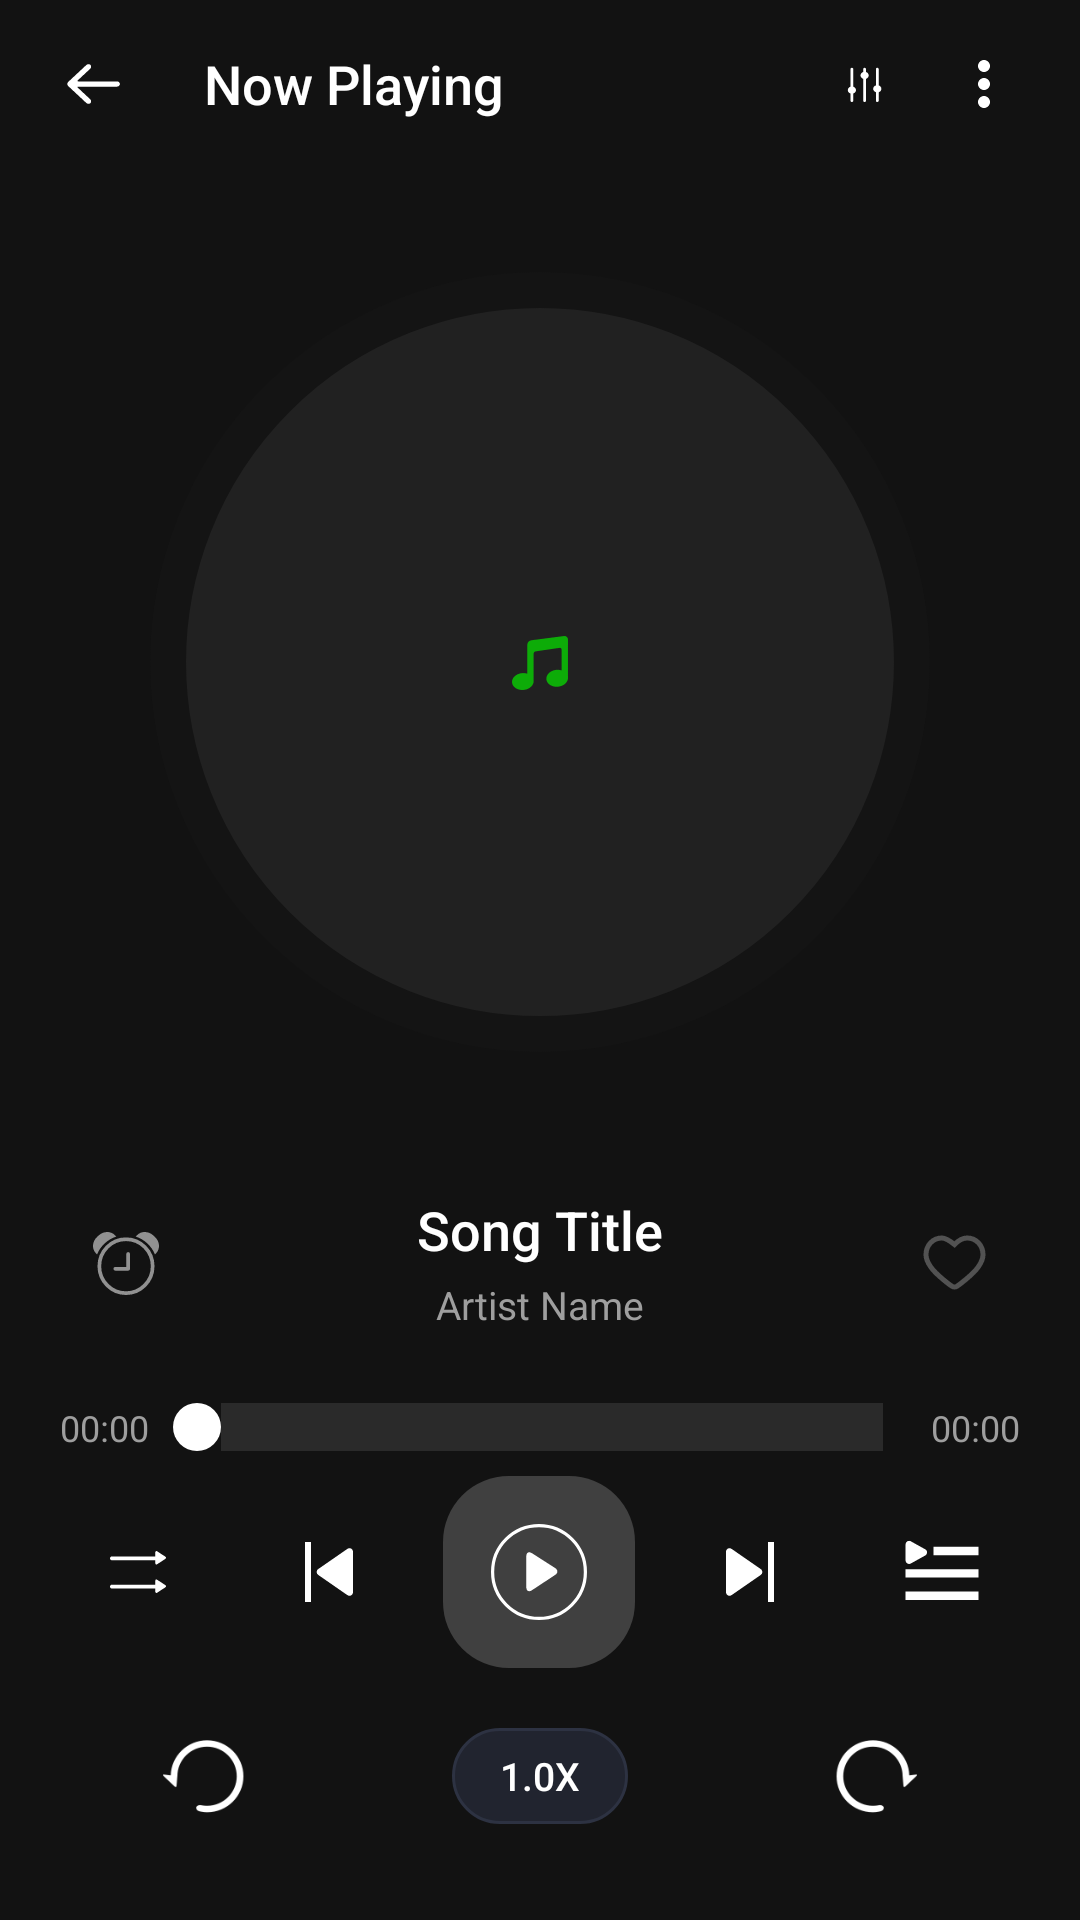

Icon click points for this 1080 x 1920 phone screenshot, format (x,y):
back: (93,84)
equalizer: (864,84)
fast backward: (203,1776)
fast forward: (876,1776)
favorite: (954,1262)
more: (984,84)
play: (539,1572)
play next: (750,1572)
play playlist: (942,1570)
play previous: (329,1572)
repeat order: (138,1572)
timer: (126,1263)
